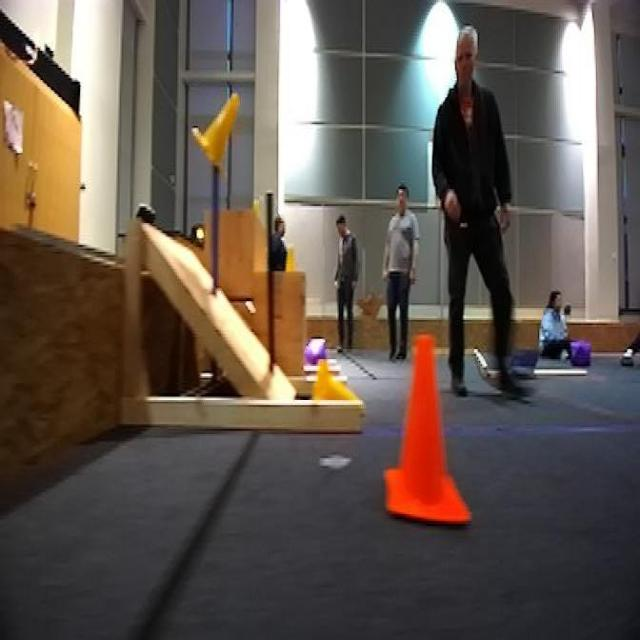frc_cone: (189, 92, 242, 177), (312, 356, 359, 402), (287, 242, 298, 272)
frc_cube: (563, 337, 591, 369), (308, 335, 326, 371)
